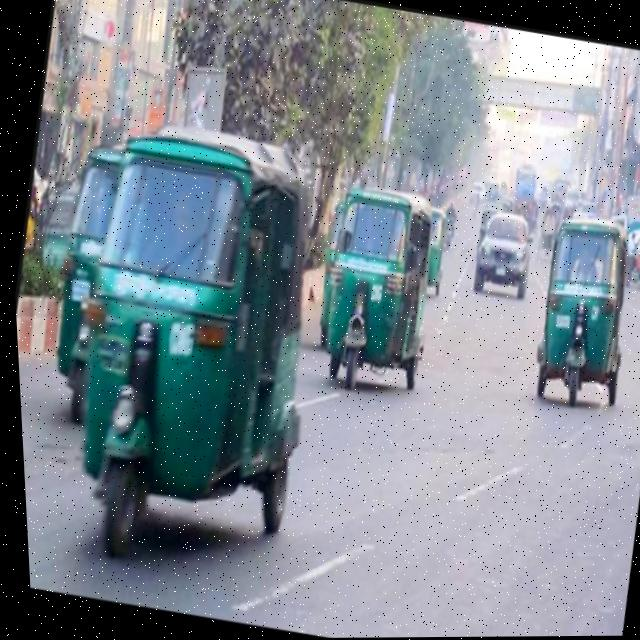cng: (41, 106, 330, 627), (283, 138, 456, 458), (511, 194, 639, 431)
